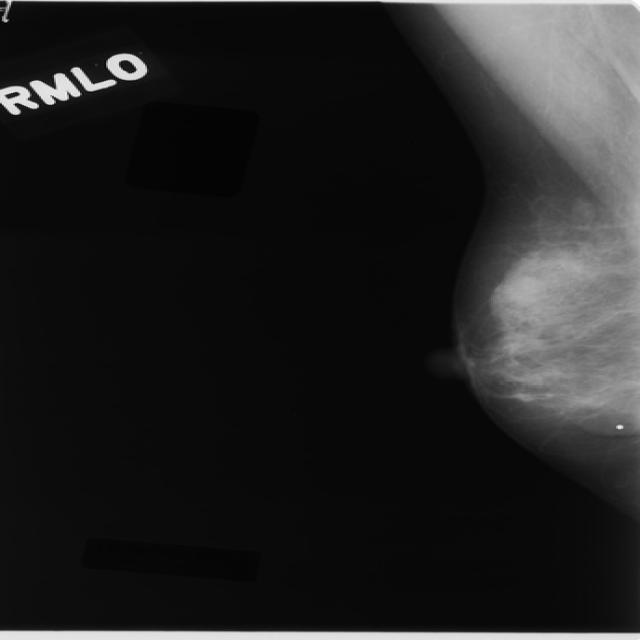tumour: (502, 272, 547, 306)
